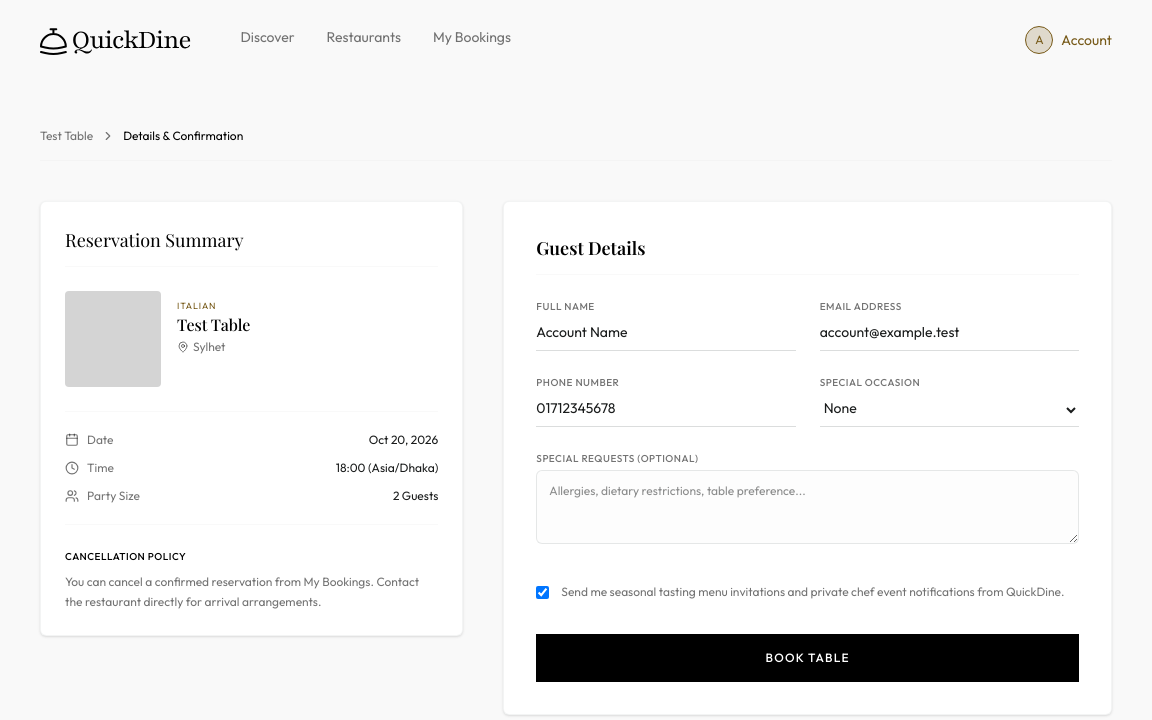
Test: booking contact submission › sends edited contact details and shows persisted confirmation
Replace the text in the field labelled "FULL NAME" with "Booking Guest" at coordinates (666, 334), box x1=536 y1=318 x2=796 y2=351
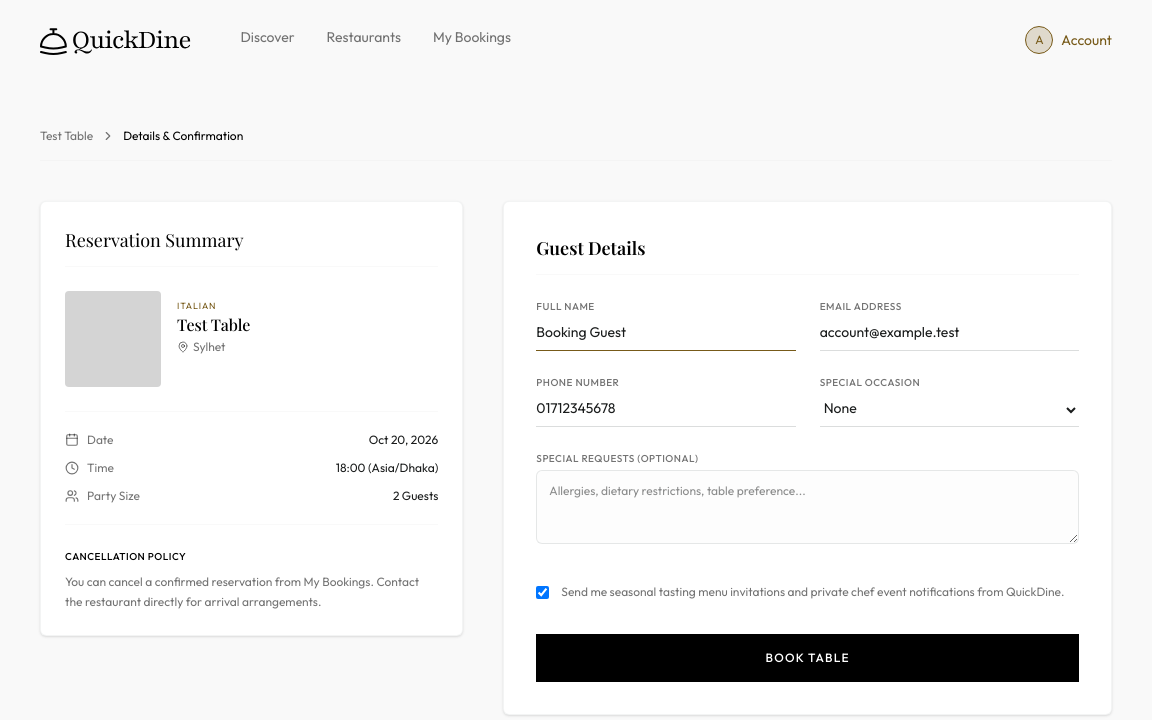
Replace the text in the field labelled "EMAIL ADDRESS" with "guest@example.test" at coordinates (949, 334), box x1=820 y1=318 x2=1079 y2=351
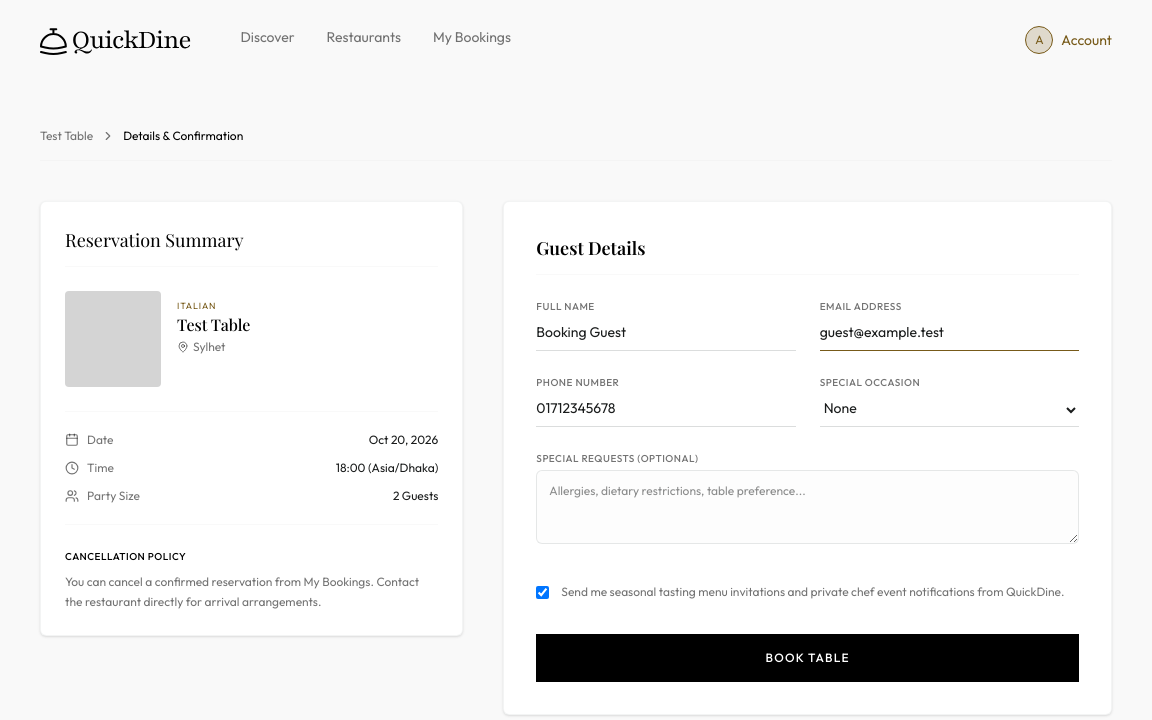
Click the button "BOOK TABLE".
click(808, 658)  # box x1=536 y1=634 x2=1079 y2=682
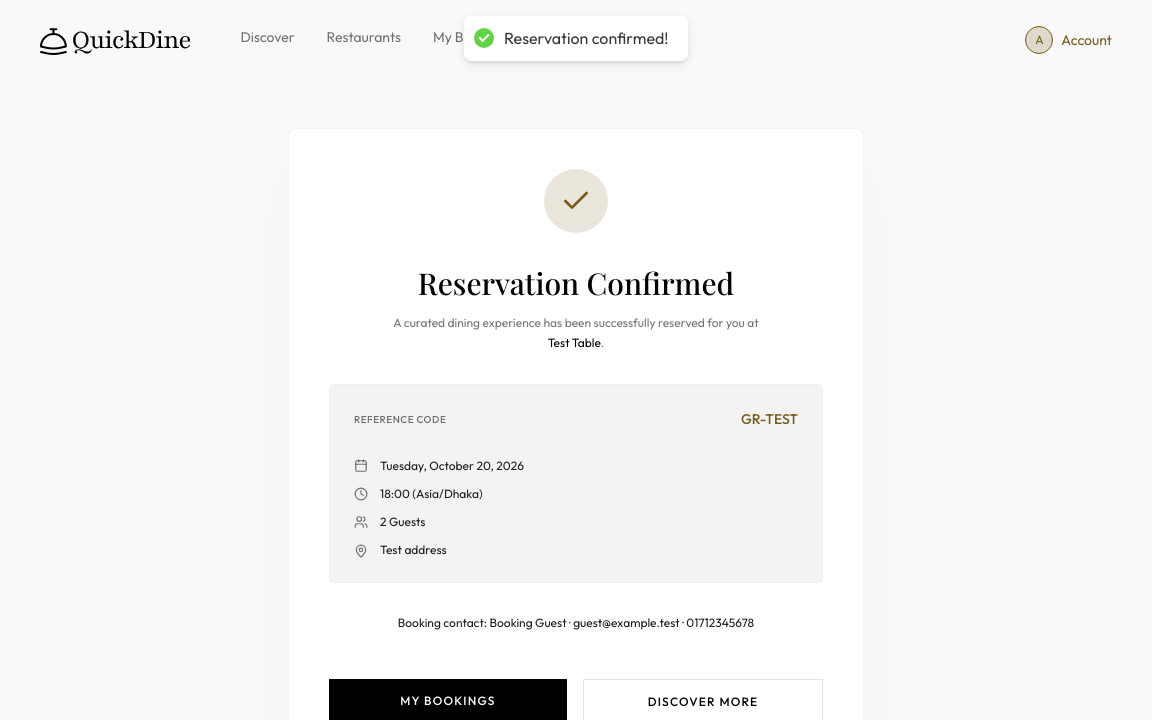
Check: the heading "Reservation Confirmed" is shown, box x1=418 y1=263 x2=734 y2=303
Check: the text "Booking contact:" shows "Booking Guest", box x1=490 y1=615 x2=567 y2=630
